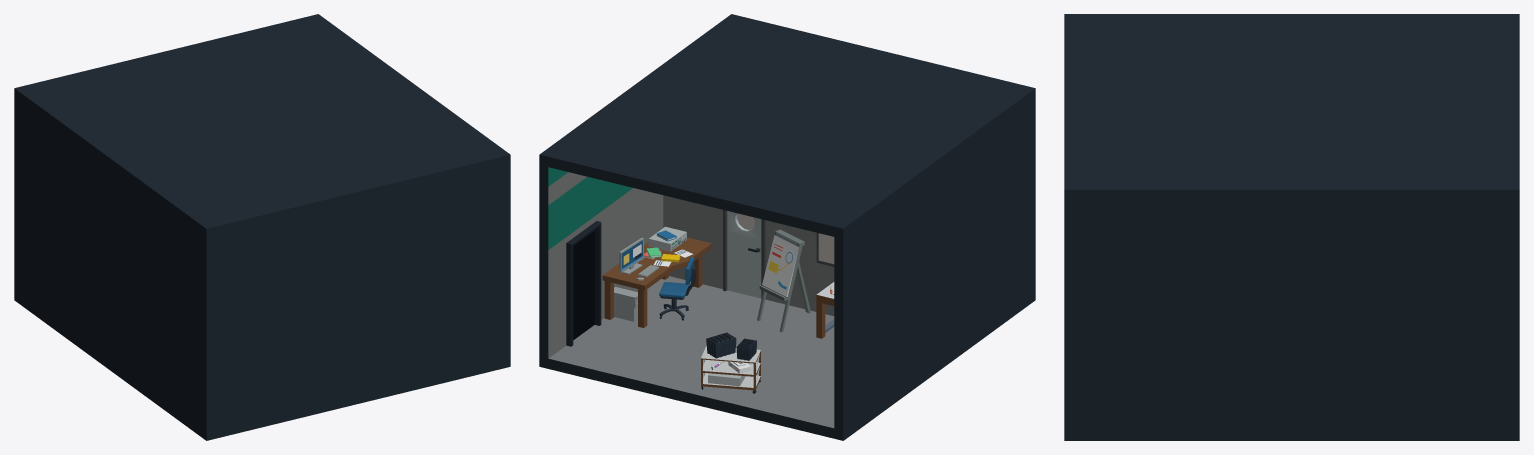
The model's file is Room_research_001.fbx.
The picture shows the model from 3 angles, left to right: view 1: azimuth 30°, elevation 25°; view 2: azimuth 150°, elevation 25°; view 3: azimuth 270°, elevation 25°; orthographic projection. The views are drawn at different scales.
Parts seen in each view (by area): view 1: Room_Tiny_001.003; view 2: Room_Tiny_001.003; view 3: Room_Tiny_001.003.
Part boxes in pixels (x1,y1,x2,y2): Room_Tiny_001.003: [14, 14, 510, 440]; Room_Tiny_001.003: [539, 14, 1035, 440]; Room_Tiny_001.003: [1064, 14, 1519, 440].
Size of the model in its own units: 600 by 400 by 657.
